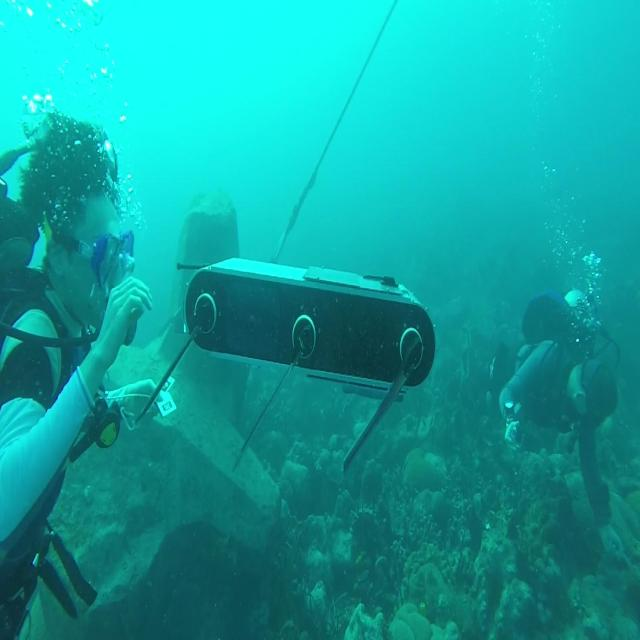human: (0, 109, 157, 637), (498, 288, 620, 529)
